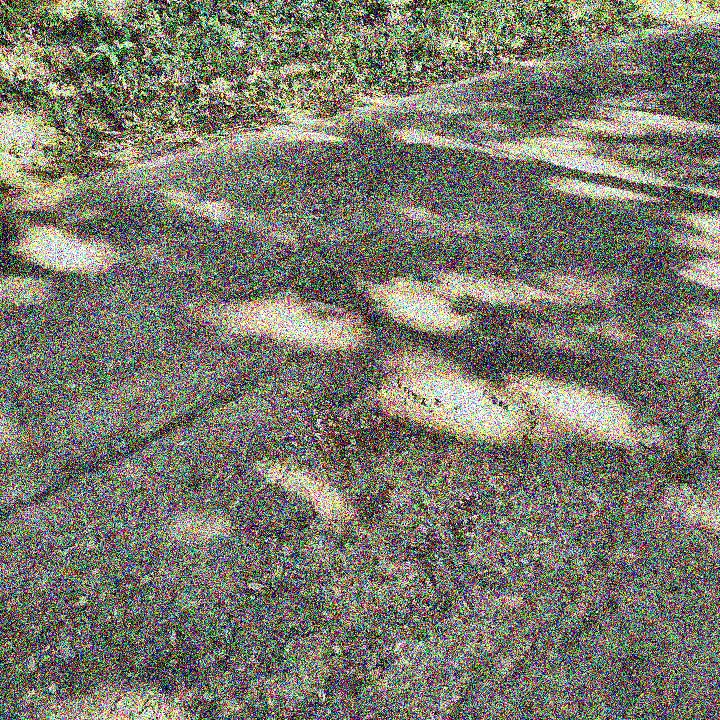pothole: (277, 372, 534, 638)
